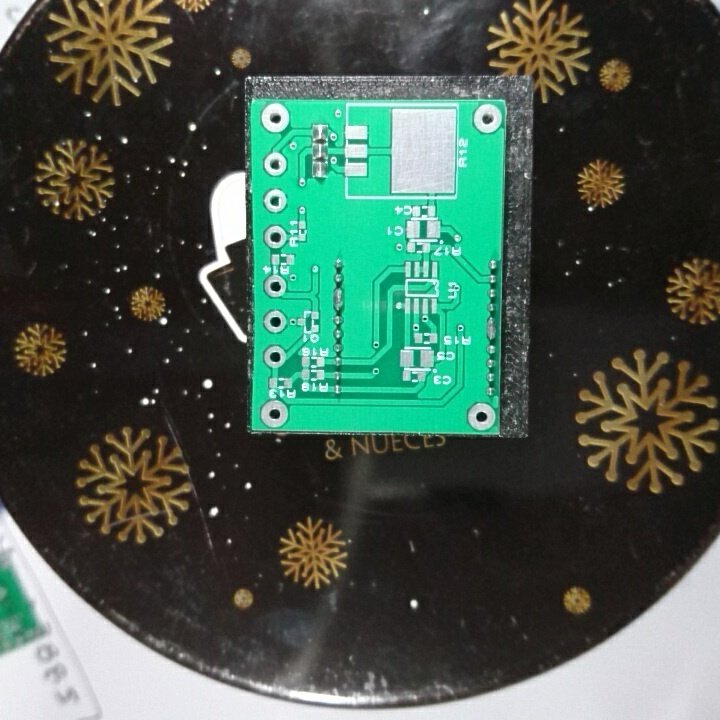F: (470, 100, 503, 135), (258, 100, 291, 134), (259, 397, 291, 431), (465, 400, 497, 432), (260, 306, 289, 336), (262, 150, 289, 178), (261, 187, 289, 213), (262, 222, 288, 250), (261, 343, 289, 369), (262, 271, 286, 299)
P: (331, 286, 347, 313), (483, 315, 498, 342)
